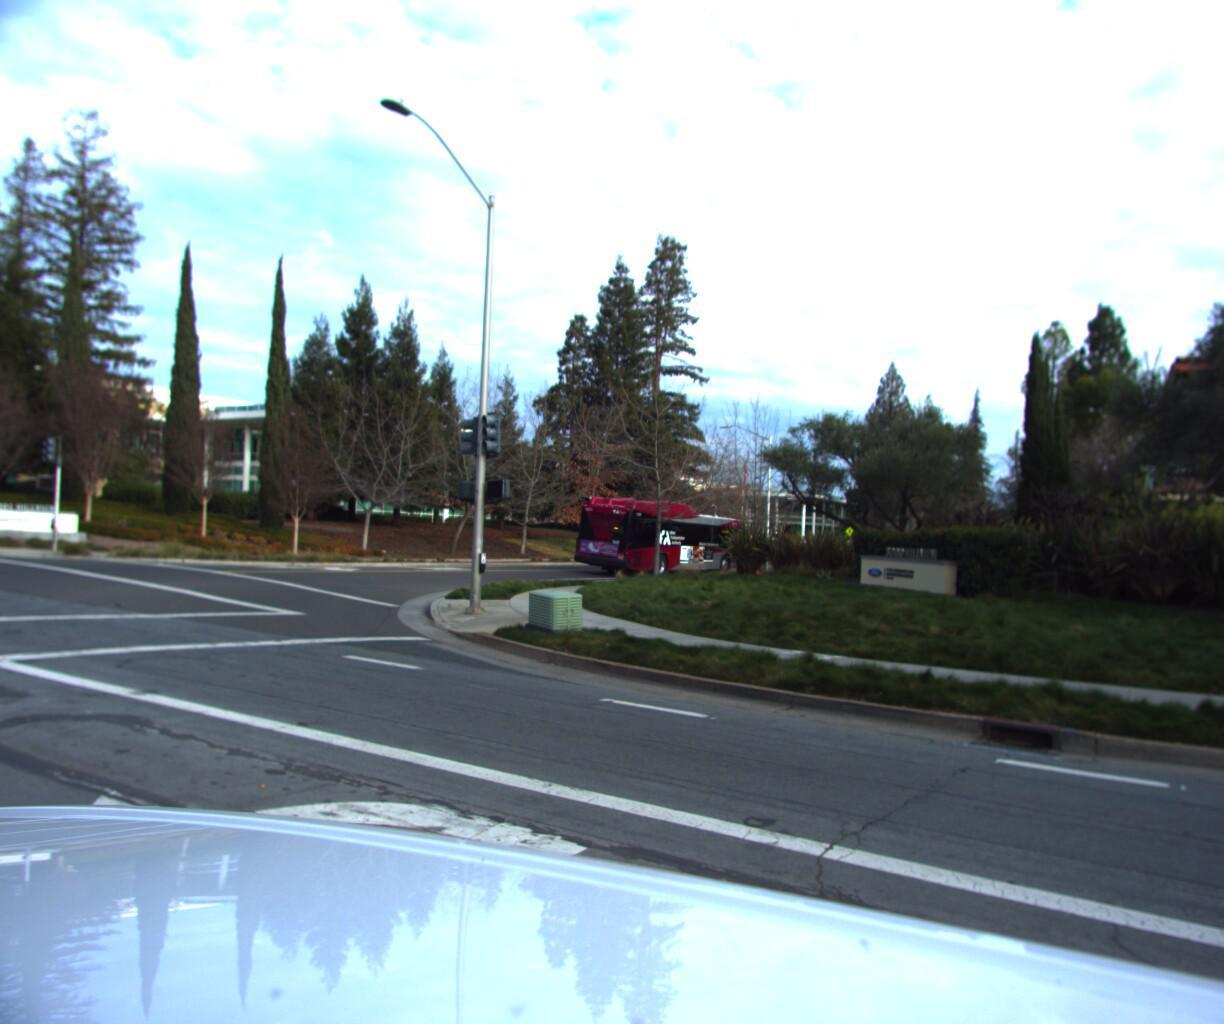bus: (569, 495, 754, 579)
